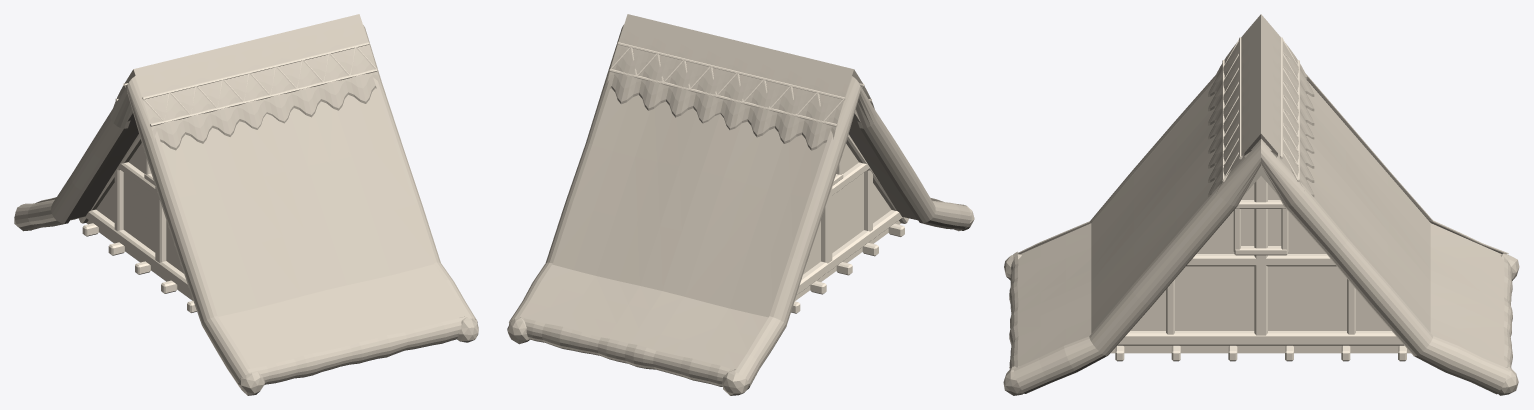
The model's file is SM_VK_RoofThatch_Single.fbx.
3 views of the same model, side by side, from view 1: azimuth 30°, elevation 25°; view 2: azimuth 150°, elevation 25°; view 3: azimuth 270°, elevation 25° (orthographic). The views are drawn at different scales.
Parts seen in each view (by area): view 1: SM_VK_RoofThatch_Single.001; view 2: SM_VK_RoofThatch_Single.001; view 3: SM_VK_RoofThatch_Single.001.
Boxes of the visible parts, <box> form: SM_VK_RoofThatch_Single.001: <box>14,14,478,395</box>; SM_VK_RoofThatch_Single.001: <box>507,14,974,395</box>; SM_VK_RoofThatch_Single.001: <box>1003,14,1519,395</box>.
Size of the model in its own units: 5.32 by 5.17 by 9.13.
